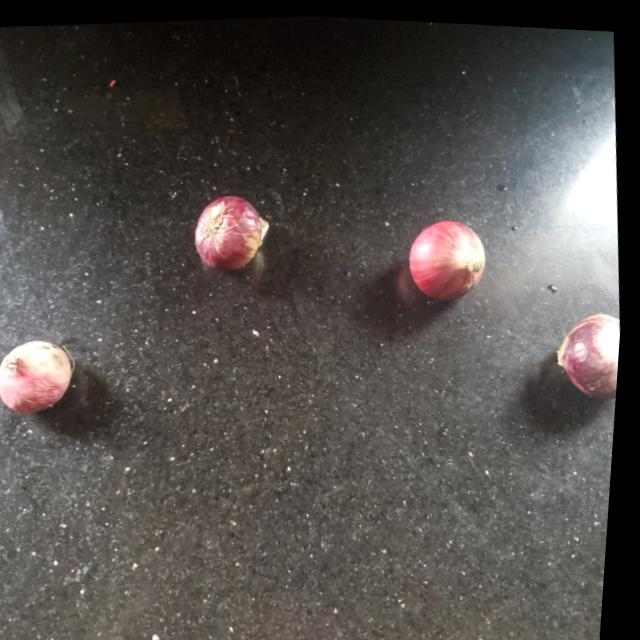onion: (408, 209, 496, 297), (0, 335, 84, 419), (193, 187, 277, 270), (557, 304, 625, 398)
